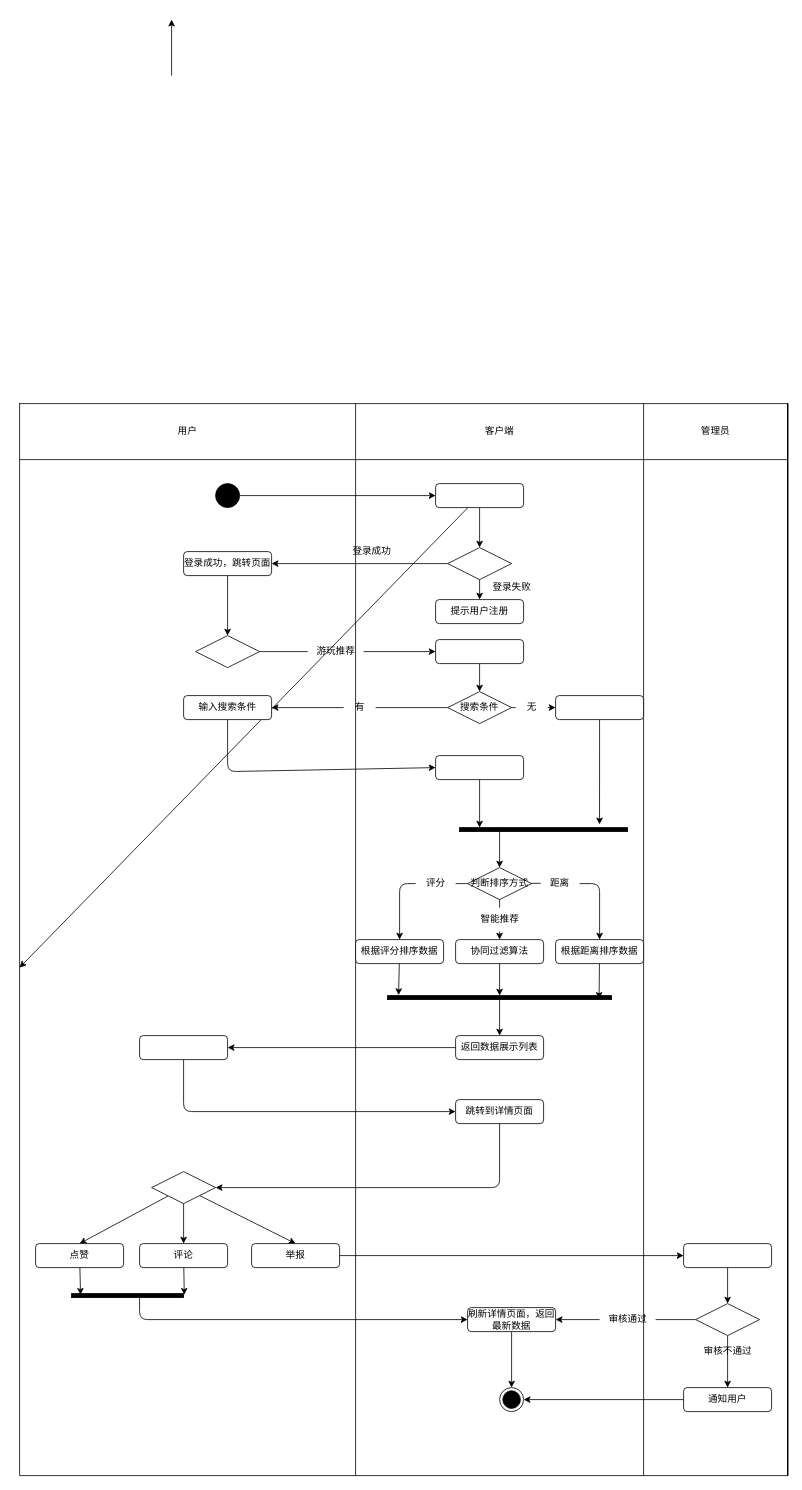
This 802x1490 diagram has some shape labels left out. Here are the shapes that lost their labels. From the top down, the box of each, then its label:
(435, 483, 524, 508): 登录
(195, 635, 260, 668): 功能选择
(435, 639, 524, 664): 游玩推荐页面选择
(555, 695, 644, 720): 默认展示实时数据
(435, 755, 524, 780): 展示搜索数据
(139, 1035, 228, 1060): 点入详情页面
(151, 1171, 216, 1204): 操作页面
(683, 1243, 772, 1268): 审核用户举报
